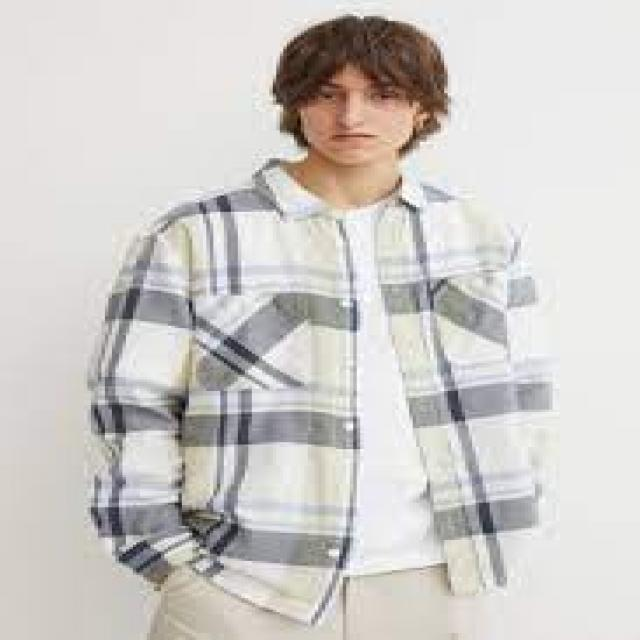plaid: (72, 152, 564, 602)
